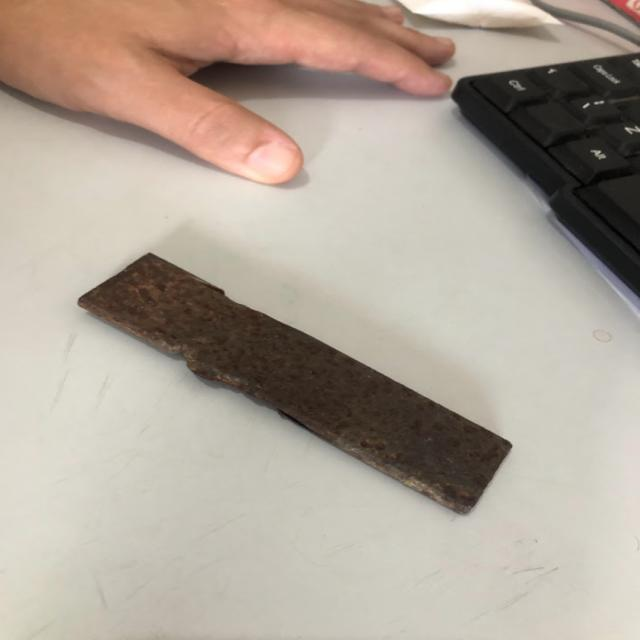Corrosion: (76, 251, 512, 518)
